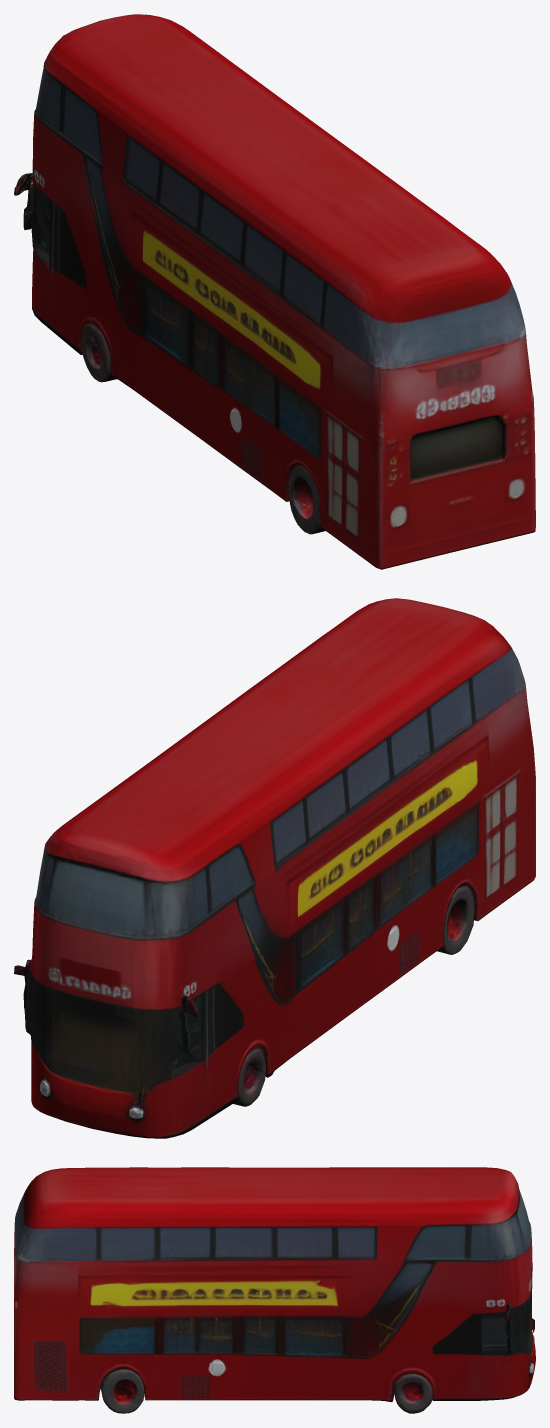
The picture shows the model from 3 angles, top to bottom: view 1: azimuth 30°, elevation 25°; view 2: azimuth 150°, elevation 25°; view 3: azimuth 270°, elevation 25°; orthographic projection. The views are drawn at different scales.
Parts seen in each view (by area): view 1: world; view 2: world; view 3: world.
Boxes of the visible parts, <box> form: world: <box>14,14,535,569</box>; world: <box>14,598,535,1138</box>; world: <box>14,1167,535,1413</box>.
Bounding box in the file's own units: 0.286 × 0.4357 × 0.9998.
1 material, 1 textured.
